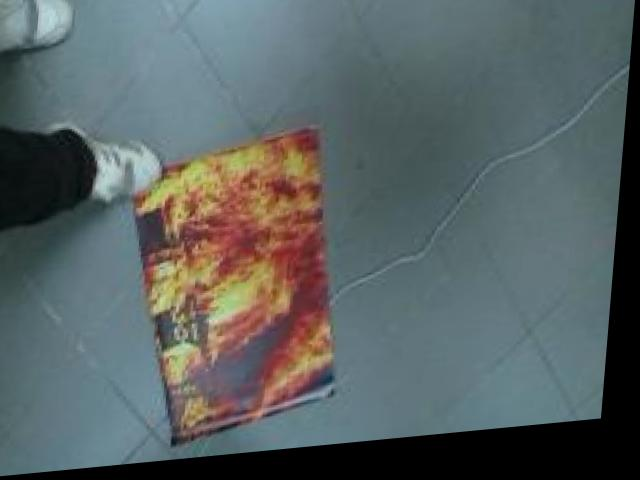fire-poster: (112, 126, 365, 459)
